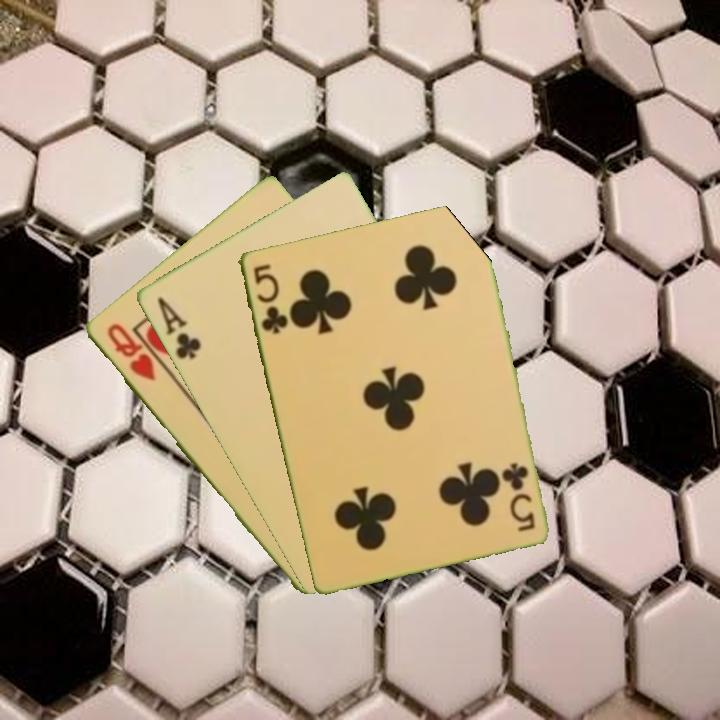5c: (249, 260, 291, 337), (501, 458, 538, 534)
Ac: (153, 293, 204, 362)
Qh: (102, 319, 158, 384)
